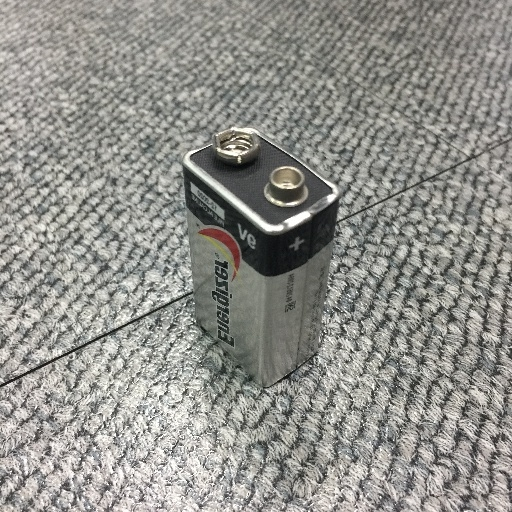Battery_3: (175, 116, 350, 398)
